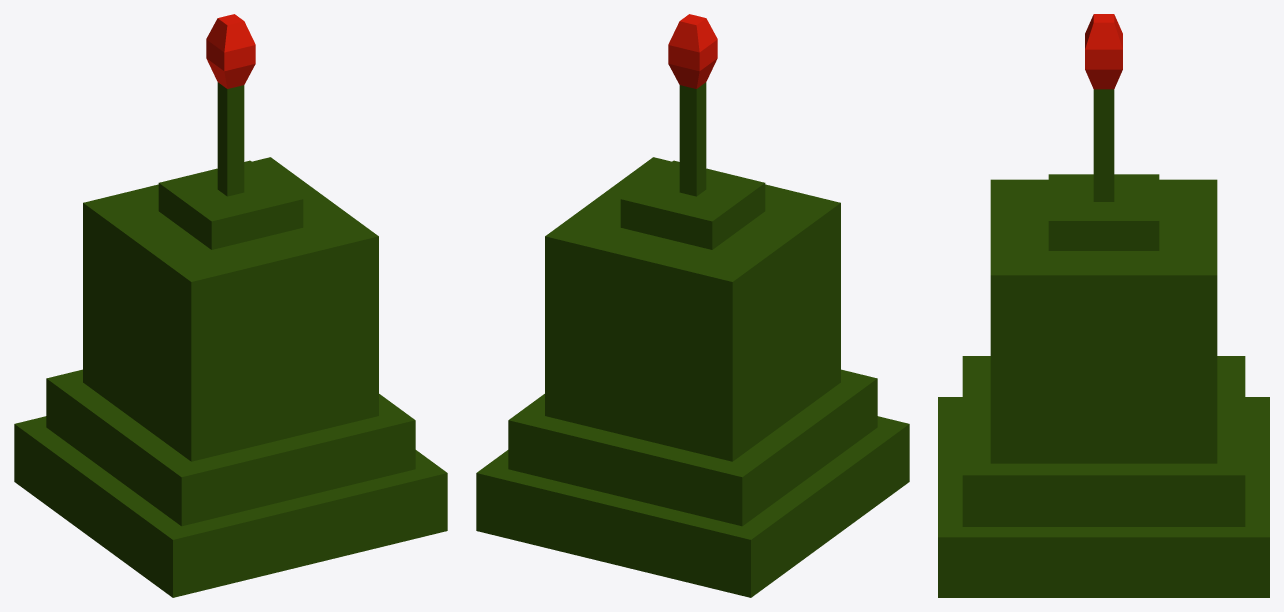
Rendered from ranged.fbx.
The picture shows the model from 3 angles, left to right: view 1: azimuth 30°, elevation 25°; view 2: azimuth 150°, elevation 25°; view 3: azimuth 270°, elevation 25°; orthographic projection. The views are drawn at different scales.
Visible parts, largest first — view 1: Ranged; view 2: Ranged; view 3: Ranged.
Part boxes in pixels (<box>): Ranged: <box>14,14,447,597</box>; Ranged: <box>476,14,909,597</box>; Ranged: <box>938,14,1269,597</box>.
Size of the model in its own units: 373 by 633 by 373.
